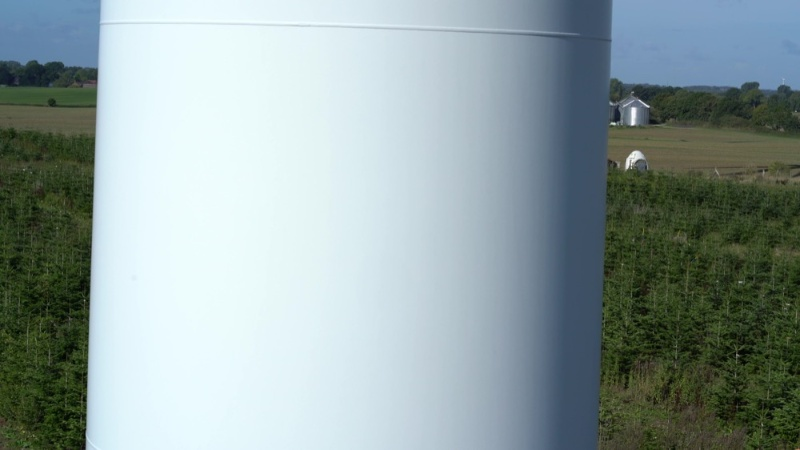weldseam: (99, 10, 614, 48)
